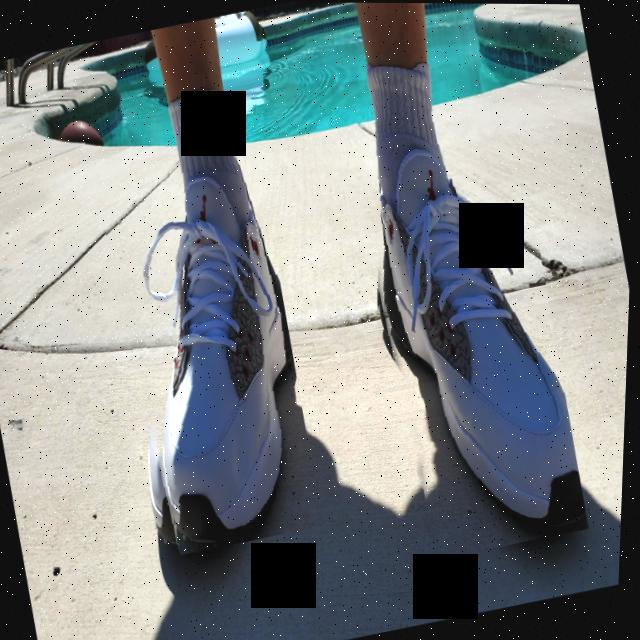shoe: (331, 92, 606, 563), (83, 143, 337, 559)
